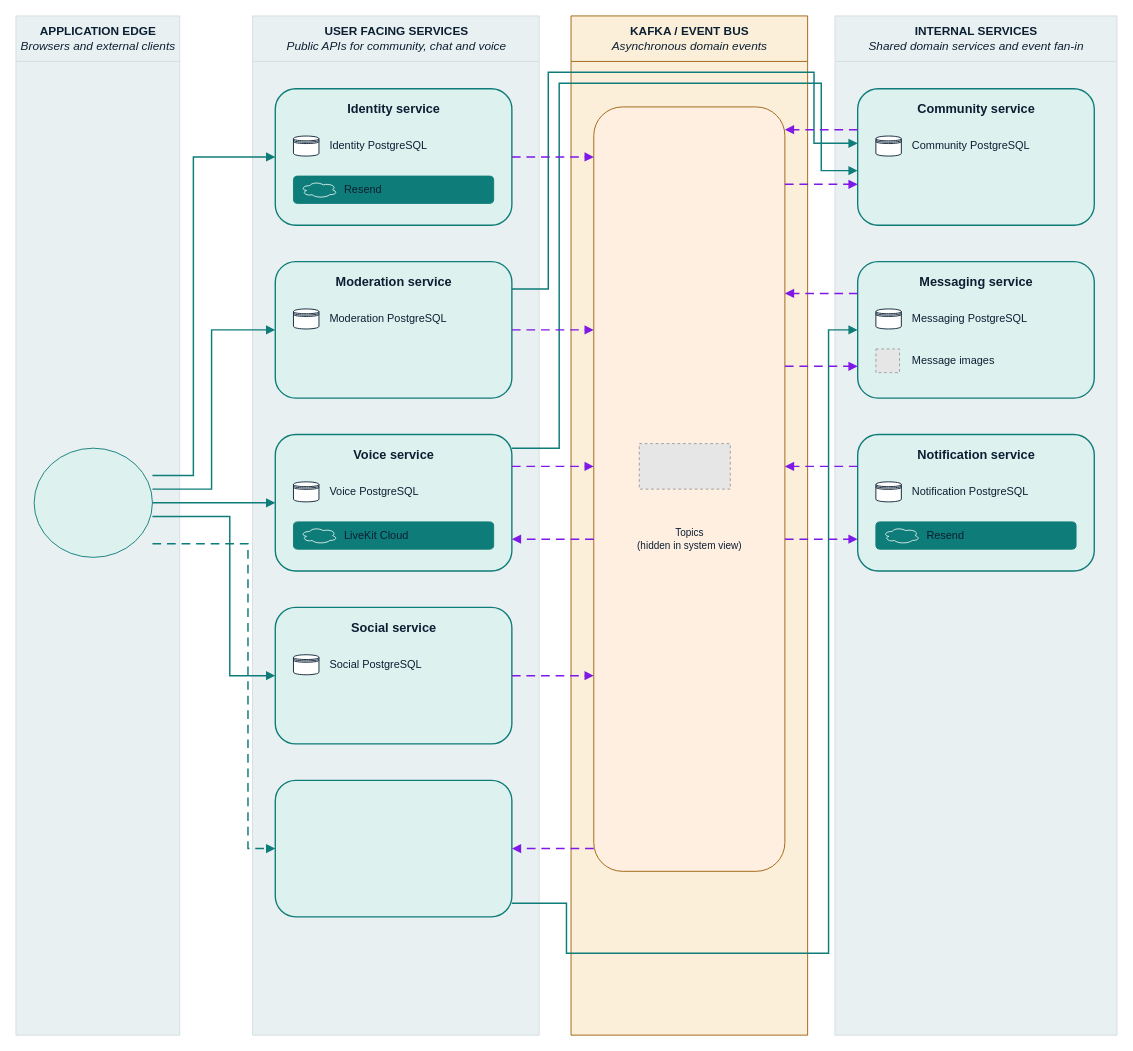
Some shapes in this 1133 by 1051 pixel diagram are drawn without their labels. Grey dashed boxes stand in for pictures. Each missing label, with the centre of its shape:
Realtime gateway: pixel 393 848
Web browser: pixel 92 502
